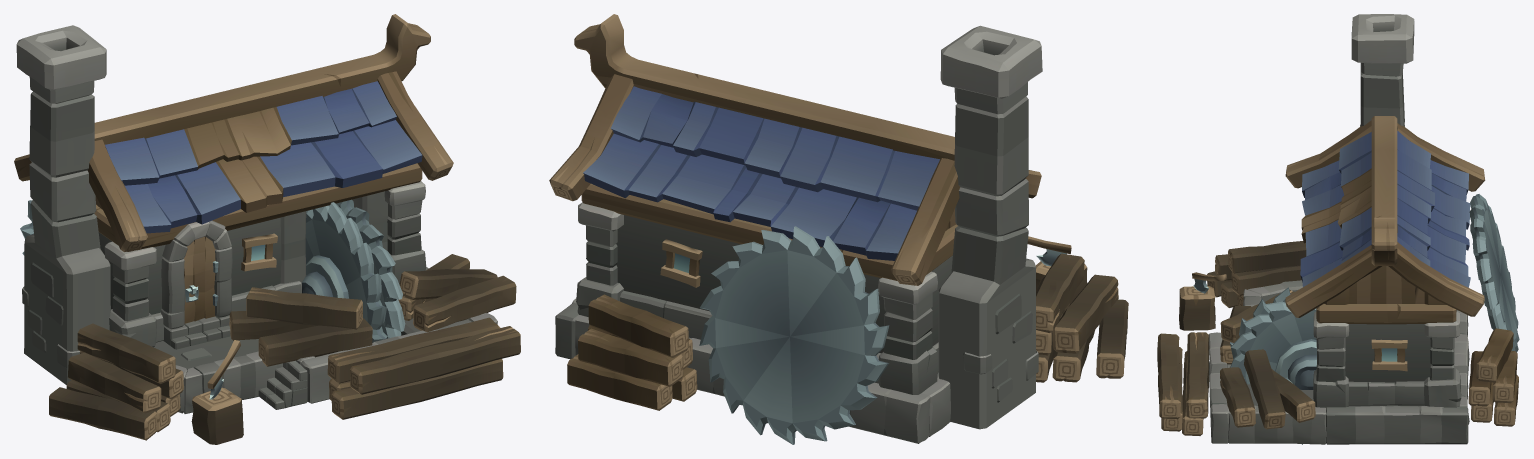
Rendered from LumberMill.fbx.
3 views of the same model, side by side, from view 1: azimuth 30°, elevation 25°; view 2: azimuth 150°, elevation 25°; view 3: azimuth 270°, elevation 25° (orthographic). The views are drawn at different scales.
Parts seen in each view (by area): view 1: 59__woodcutter_Lv3_do_59__woodcutter_Lv3_do_117_59__woodcutt; view 2: 59__woodcutter_Lv3_do_59__woodcutter_Lv3_do_117_59__woodcutt; view 3: 59__woodcutter_Lv3_do_59__woodcutter_Lv3_do_117_59__woodcutt.
Boxes of the visible parts, x1,y1,x2,y2 form: 59__woodcutter_Lv3_do_59__woodcutter_Lv3_do_117_59__woodcutt: (14, 14, 520, 444); 59__woodcutter_Lv3_do_59__woodcutter_Lv3_do_117_59__woodcutt: (549, 14, 1128, 444); 59__woodcutter_Lv3_do_59__woodcutter_Lv3_do_117_59__woodcutt: (1157, 14, 1519, 444).
Bounding box in the file's own units: 13.67 × 11.06 × 11.49.
1 material, 1 textured.
